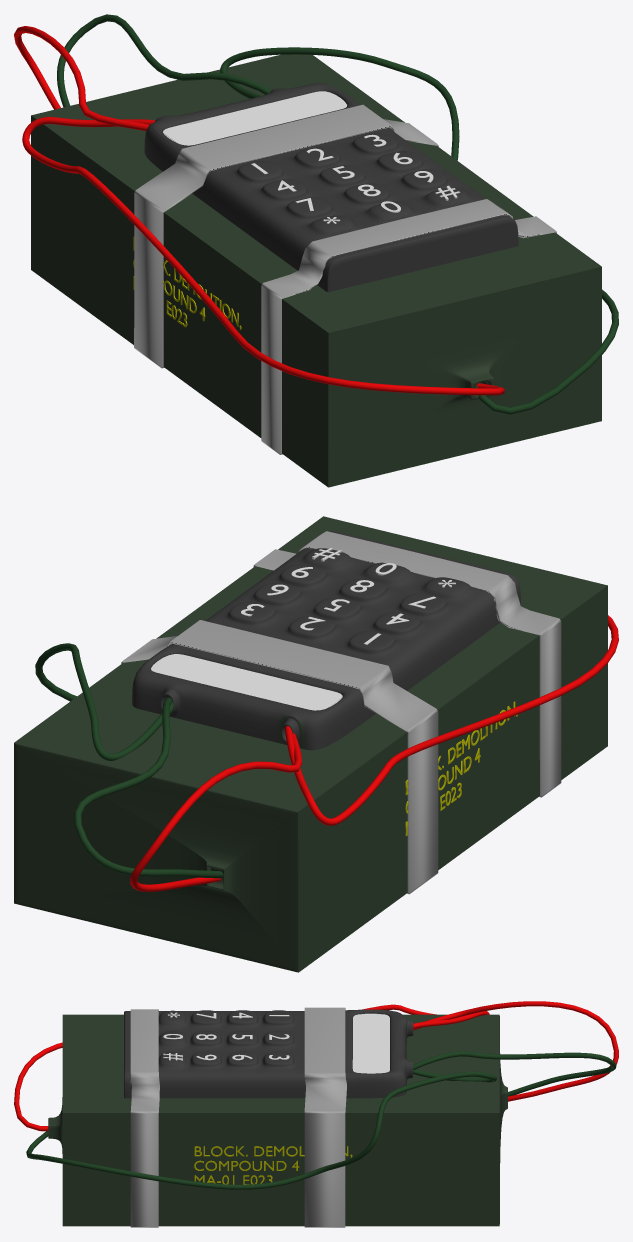
3 views of the same model, one above another, from view 1: azimuth 30°, elevation 25°; view 2: azimuth 150°, elevation 25°; view 3: azimuth 270°, elevation 25° (orthographic). The views are drawn at different scales.
Visible parts, largest first — view 1: Cube, Cube.002, BezierCircle.003, BezierCircle.004, Cube.001, BezierCircle.002, BezierCircle.001, Text.013; view 2: Cube, Cube.002, Cube.001, BezierCircle.003, BezierCircle.002, BezierCircle.001, BezierCircle.004, Text.013; view 3: Cube, Cube.002, BezierCircle.004, Cube.001, BezierCircle.001, BezierCircle.002, BezierCircle.003, Text.012.
Part boxes in pixels (x1,y1,x2,y2): Cube: (31, 54, 601, 487); Cube.002: (134, 104, 556, 454); BezierCircle.003: (22, 117, 504, 395); BezierCircle.004: (220, 47, 618, 414); Cube.001: (163, 91, 346, 145); BezierCircle.002: (57, 14, 271, 107); BezierCircle.001: (14, 26, 148, 130); Text.013: (133, 236, 241, 329); Cube: (14, 516, 607, 972); Cube.002: (121, 531, 561, 894); Cube.001: (151, 654, 342, 710); BezierCircle.003: (284, 615, 618, 825); BezierCircle.002: (74, 697, 223, 878); BezierCircle.001: (130, 733, 302, 891); BezierCircle.004: (35, 643, 173, 760); Text.013: (405, 701, 517, 835); Cube: (48, 1009, 507, 1226); Cube.002: (130, 1007, 346, 1227); BezierCircle.004: (26, 1069, 496, 1189); Cube.001: (352, 1014, 389, 1073); BezierCircle.001: (413, 1001, 618, 1101); BezierCircle.002: (413, 1051, 616, 1096); BezierCircle.003: (14, 1004, 489, 1131); Text.012: (194, 1146, 352, 1184).
Bounding box in the file's own units: 270 × 139 × 522.
